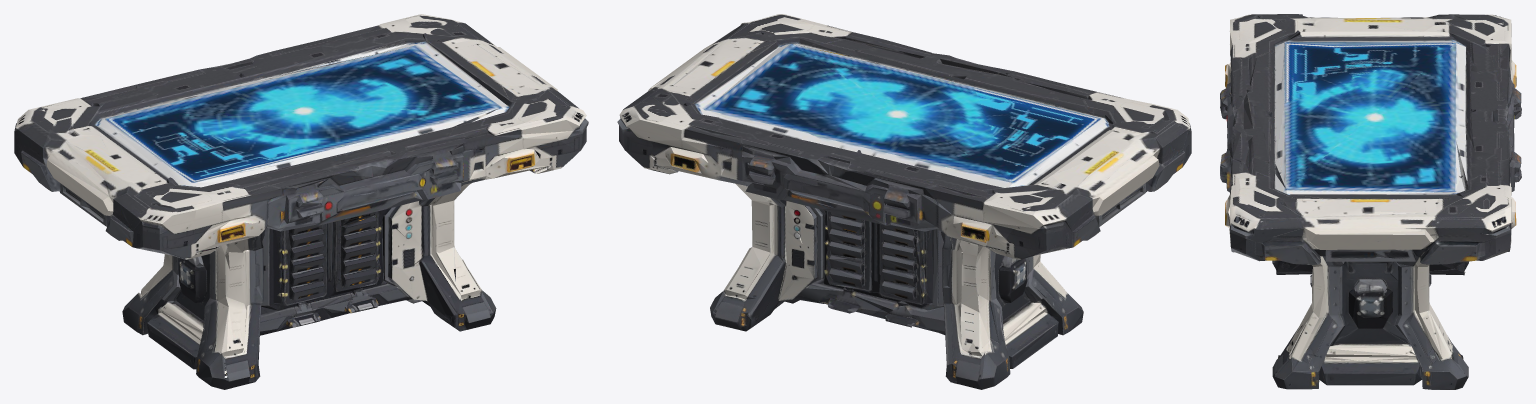
The model's file is holo_table.glb.
The picture shows the model from 3 angles, left to right: view 1: azimuth 30°, elevation 25°; view 2: azimuth 150°, elevation 25°; view 3: azimuth 270°, elevation 25°; orthographic projection. The views are drawn at different scales.
Visible parts, largest first — view 1: output_unwrapped; view 2: output_unwrapped; view 3: output_unwrapped.
Boxes of the visible parts, x1,y1,x2,y2 form: output_unwrapped: (14,14,588,389); output_unwrapped: (617,14,1191,389); output_unwrapped: (1220,14,1521,389).
Bounding box in the file's own units: 1.9 × 0.8579 × 1.12.
1 material, 1 textured.
